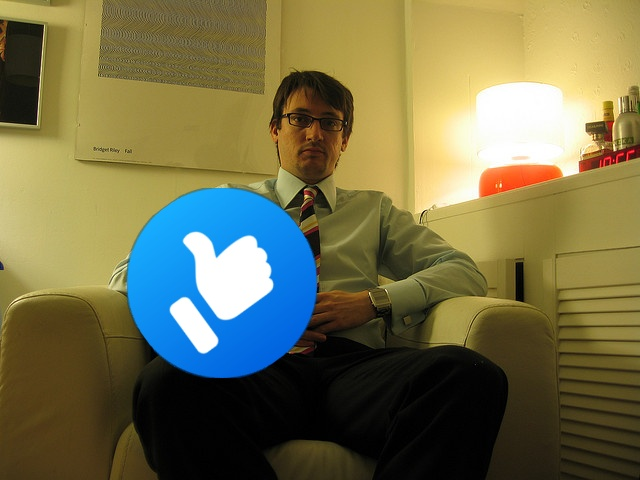like: (127, 188, 317, 378)
